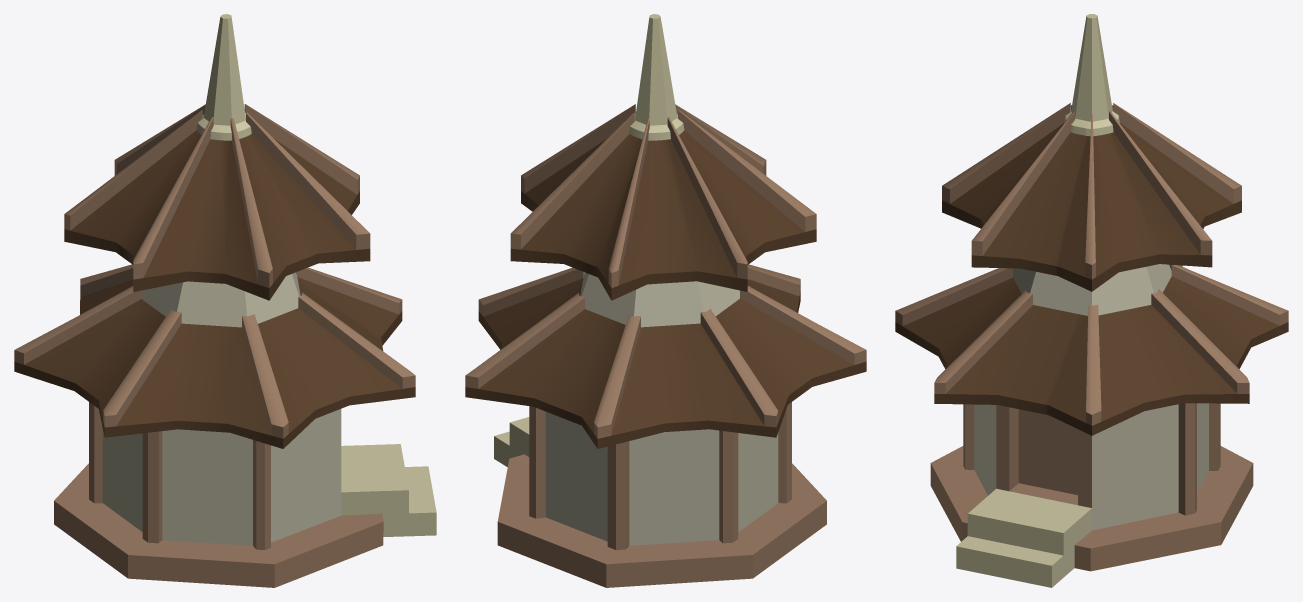
The model's file is Lesserbuildingpagoda_Textured.fbx.
The picture shows the model from 3 angles, left to right: view 1: azimuth 30°, elevation 25°; view 2: azimuth 150°, elevation 25°; view 3: azimuth 270°, elevation 25°; orthographic projection. The views are drawn at different scales.
Parts seen in each view (by area): view 1: pCylinder1; view 2: pCylinder1; view 3: pCylinder1.
Part boxes in pixels (<box>): pCylinder1: <box>14,14,436,587</box>; pCylinder1: <box>465,14,866,587</box>; pCylinder1: <box>895,14,1288,587</box>.
Bounding box in the file's own units: 680 × 937 × 686.
